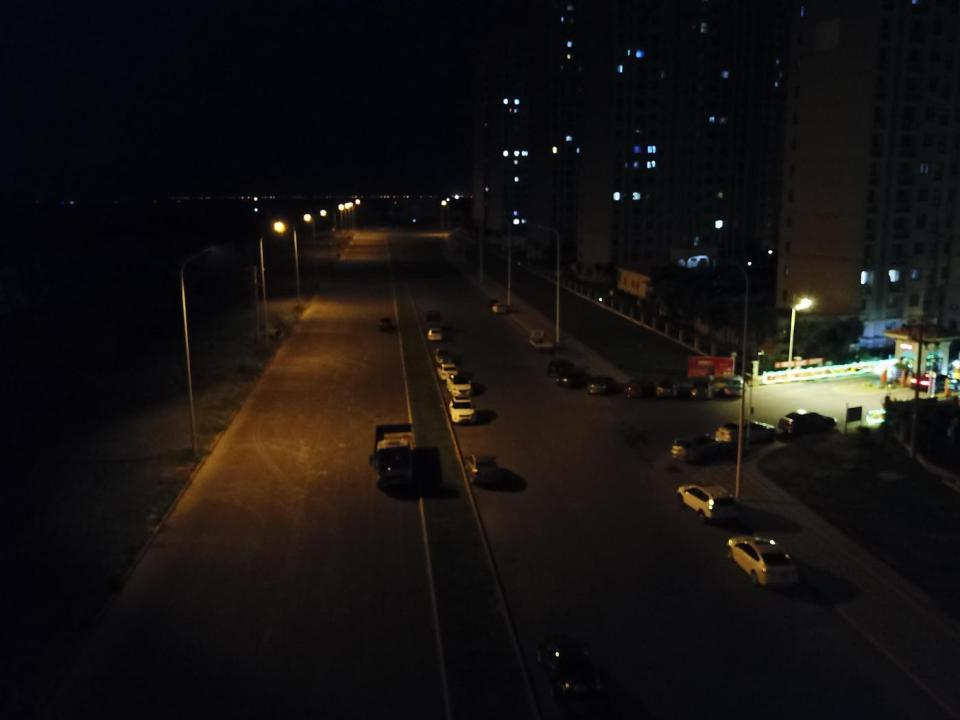car: (536, 634, 602, 700), (725, 534, 799, 587), (676, 483, 741, 524), (670, 432, 724, 463), (715, 419, 776, 444), (778, 410, 838, 434), (464, 454, 501, 484), (448, 396, 476, 423), (656, 376, 684, 398), (623, 378, 655, 397), (446, 374, 472, 397), (557, 372, 592, 388), (724, 374, 747, 396), (546, 359, 574, 377), (588, 376, 616, 394), (691, 381, 717, 399), (437, 364, 459, 382), (434, 347, 453, 364), (427, 326, 442, 341), (378, 317, 391, 330), (493, 304, 508, 313), (489, 298, 498, 306)
truck: (369, 423, 417, 490), (527, 330, 555, 352)
